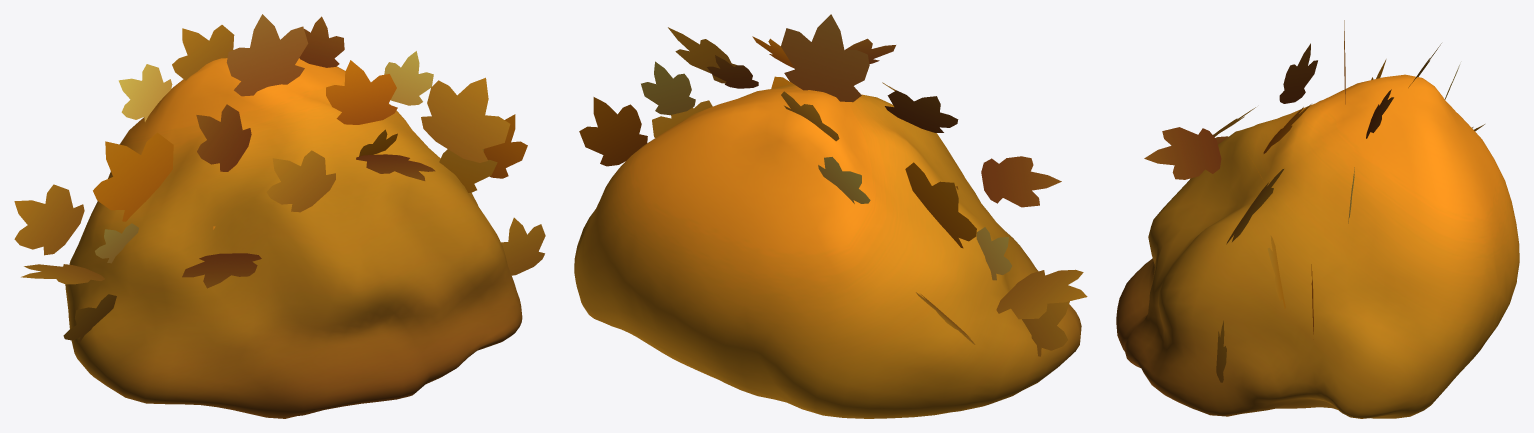
Rendered from PileOfLeaves_WheelBarrow.fbx.
3 renders of one model, left to right at view 1: azimuth 30°, elevation 25°; view 2: azimuth 150°, elevation 25°; view 3: azimuth 270°, elevation 25°, orthographic. The views are drawn at different scales.
Parts seen in each view (by area): view 1: PileOfLeaves5:Group48410, PileOfLeaves5:Hoja33, PileOfLeaves5:Hoja2, PileOfLeaves5:Hoja3, PileOfLeaves5:Hoja36, PileOfLeaves5:Hoja35, PileOfLeaves5:Hoja27, PileOfLeaves5:Hoja19, PileOfLeaves5:Hoja5, PileOfLeaves5:Hoja34, PileOfLeaves5:Hoja28, PileOfLeaves5:Hoja11 (+8 smaller); view 2: PileOfLeaves5:Group48410, PileOfLeaves5:Hoja3, PileOfLeaves5:Hoja7, PileOfLeaves5:Hoja26, PileOfLeaves5:Hoja28, PileOfLeaves5:Hoja2, PileOfLeaves5:Hoja8, PileOfLeaves5:Hoja19, PileOfLeaves5:Hoja6, PileOfLeaves5:Hoja33, PileOfLeaves5:Hoja34, PileOfLeaves5:Hoja12 (+4 smaller); view 3: PileOfLeaves5:Group48410, PileOfLeaves5:Hoja29, PileOfLeaves5:Hoja19, PileOfLeaves5:Hoja33, PileOfLeaves5:Hoja11, PileOfLeaves5:Hoja1, PileOfLeaves5:Hoja10.
Part boxes in pixels (<box>): PileOfLeaves5:Group48410: <box>65,58,522,418</box>; PileOfLeaves5:Hoja33: <box>421,77,510,162</box>; PileOfLeaves5:Hoja2: <box>93,132,173,221</box>; PileOfLeaves5:Hoja3: <box>226,14,308,96</box>; PileOfLeaves5:Hoja36: <box>14,184,84,255</box>; PileOfLeaves5:Hoja35: <box>326,60,397,124</box>; PileOfLeaves5:Hoja27: <box>266,150,335,212</box>; PileOfLeaves5:Hoja19: <box>196,104,251,171</box>; PileOfLeaves5:Hoja5: <box>172,25,234,80</box>; PileOfLeaves5:Hoja34: <box>118,64,172,121</box>; PileOfLeaves5:Hoja28: <box>182,253,261,288</box>; PileOfLeaves5:Hoja11: <box>501,217,545,275</box>; PileOfLeaves5:Group48410: <box>574,84,1081,418</box>; PileOfLeaves5:Hoja3: <box>781,14,869,102</box>; PileOfLeaves5:Hoja7: <box>579,97,647,166</box>; PileOfLeaves5:Hoja26: <box>996,269,1087,319</box>; PileOfLeaves5:Hoja28: <box>981,156,1061,207</box>; PileOfLeaves5:Hoja2: <box>905,162,976,248</box>; PileOfLeaves5:Hoja8: <box>641,61,695,115</box>; PileOfLeaves5:Hoja19: <box>885,90,958,132</box>; PileOfLeaves5:Hoja6: <box>1022,301,1069,356</box>; PileOfLeaves5:Hoja33: <box>668,27,737,83</box>; PileOfLeaves5:Hoja34: <box>818,157,870,203</box>; PileOfLeaves5:Hoja12: <box>976,227,1011,280</box>; PileOfLeaves5:Group48410: <box>1116,74,1519,418</box>; PileOfLeaves5:Hoja29: <box>1144,127,1221,179</box>; PileOfLeaves5:Hoja19: <box>1279,43,1317,103</box>; PileOfLeaves5:Hoja33: <box>1226,169,1283,244</box>; PileOfLeaves5:Hoja11: <box>1216,320,1226,382</box>; PileOfLeaves5:Hoja1: <box>1366,89,1393,138</box>; PileOfLeaves5:Hoja10: <box>1267,235,1285,308</box>.
Size of the model in its own units: 1.73 by 1.13 by 1.21.
